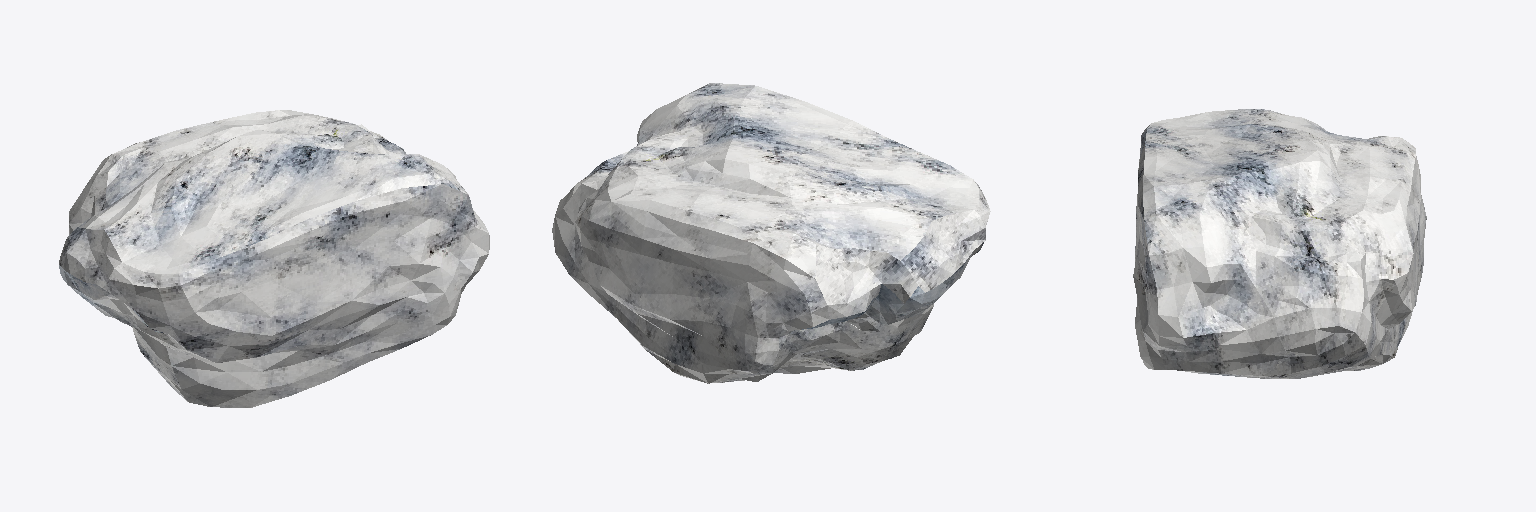
3 views of the same model, side by side, from view 1: azimuth 30°, elevation 25°; view 2: azimuth 150°, elevation 25°; view 3: azimuth 270°, elevation 25° (orthographic).
Visible parts, largest first — view 1: Rock_1; view 2: Rock_1; view 3: Rock_1.
Part boxes in pixels (bbox=[...]): Rock_1: bbox=[59, 110, 489, 407]; Rock_1: bbox=[552, 83, 990, 383]; Rock_1: bbox=[1133, 109, 1426, 378].
Bounding box in the file's own units: 2.24 × 1.24 × 1.53.
Materials: 1 (1 with a texture image).